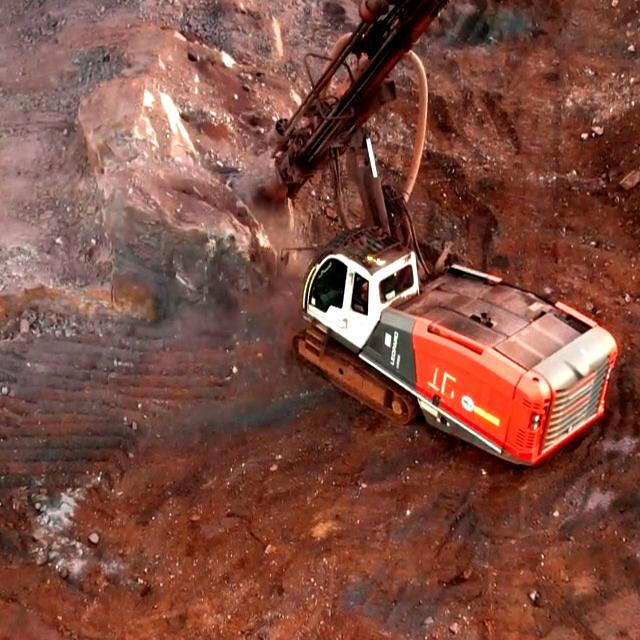Blast rig: (298, 230, 623, 454)
